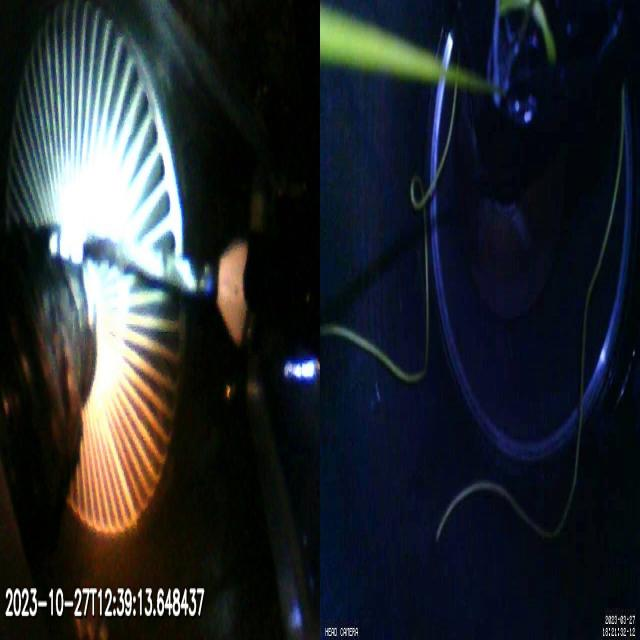head: (218, 240, 267, 342)
white-dots: (48, 218, 82, 267)
